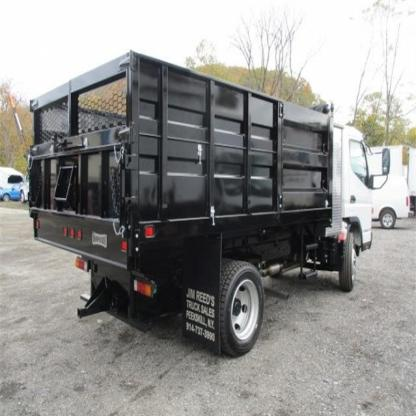truck: (26, 49, 390, 357)
